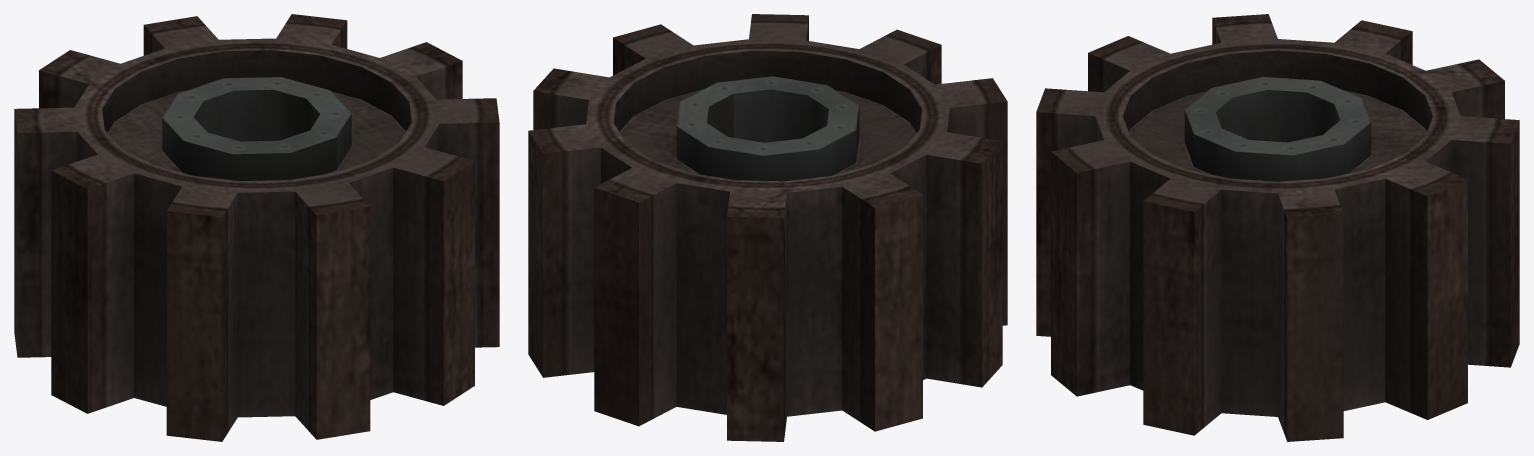
Rendered from engranaje.fbx.
3 views of the same model, side by side, from view 1: azimuth 30°, elevation 25°; view 2: azimuth 150°, elevation 25°; view 3: azimuth 270°, elevation 25° (orthographic).
Parts seen in each view (by area): view 1: engranaje; view 2: engranaje; view 3: engranaje.
Boxes of the visible parts, left/top/right/bottom form: engranaje: left=14, top=14, right=499, bottom=441; engranaje: left=528, top=14, right=1007, bottom=441; engranaje: left=1036, top=14, right=1519, bottom=441.
Size of the model in its own units: 1.58 by 0.8087 by 1.58.
